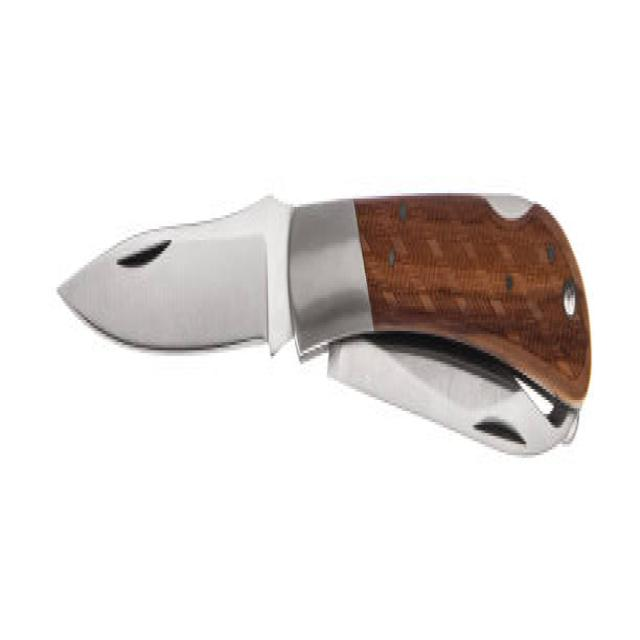knife: (51, 170, 597, 485)
